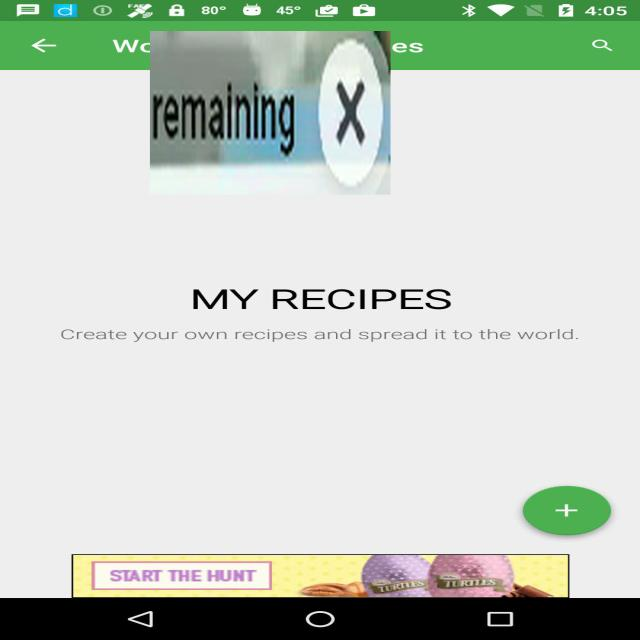misdirection: (150, 31, 390, 195)
